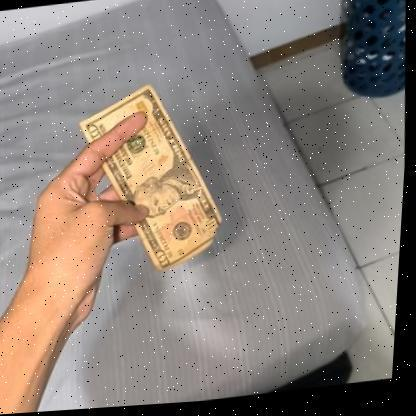ten-front: (67, 76, 236, 288)
